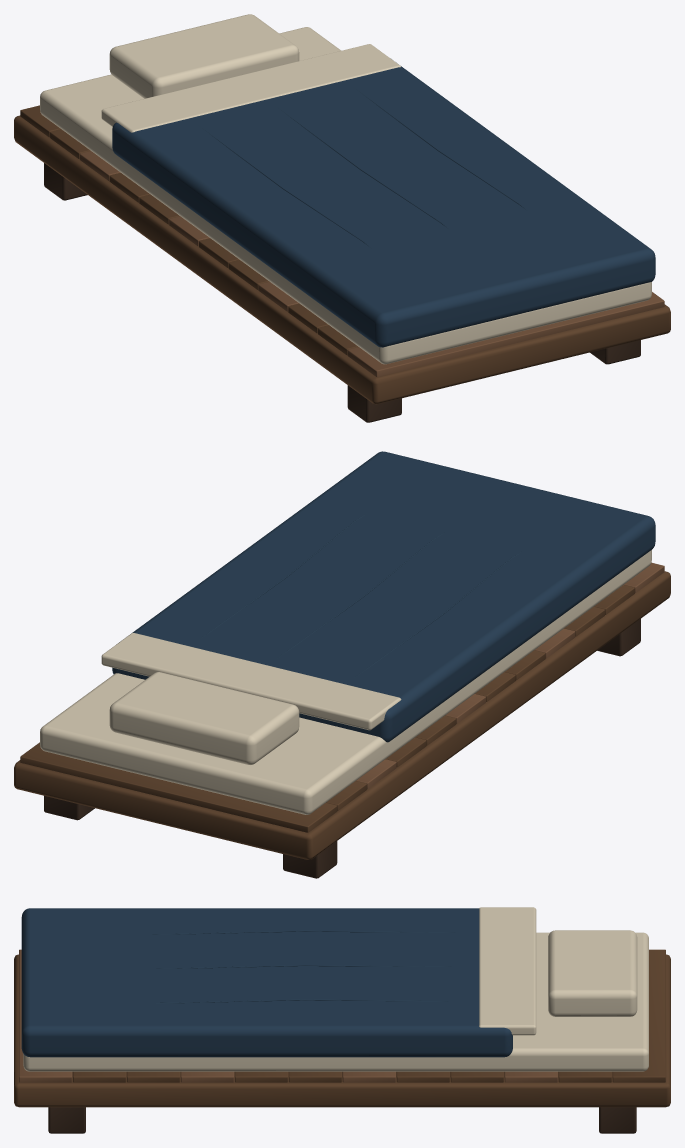
The model's file is kominka-bed-1000-01.glb.
3 renders of one model, top to bottom at view 1: azimuth 30°, elevation 25°; view 2: azimuth 150°, elevation 25°; view 3: azimuth 270°, elevation 25°, orthographic. The views are drawn at different scales.
Parts seen in each view (by area): view 1: kominka-bed-1000-01; view 2: kominka-bed-1000-01; view 3: kominka-bed-1000-01.
Part boxes in pixels (x1=…): kominka-bed-1000-01: x1=14, y1=14, x2=670, y2=422; kominka-bed-1000-01: x1=14, y1=451, x2=670, y2=878; kominka-bed-1000-01: x1=14, y1=907, x2=670, y2=1133.
Bounding box in the file's own units: 1 × 0.4 × 2.1.
